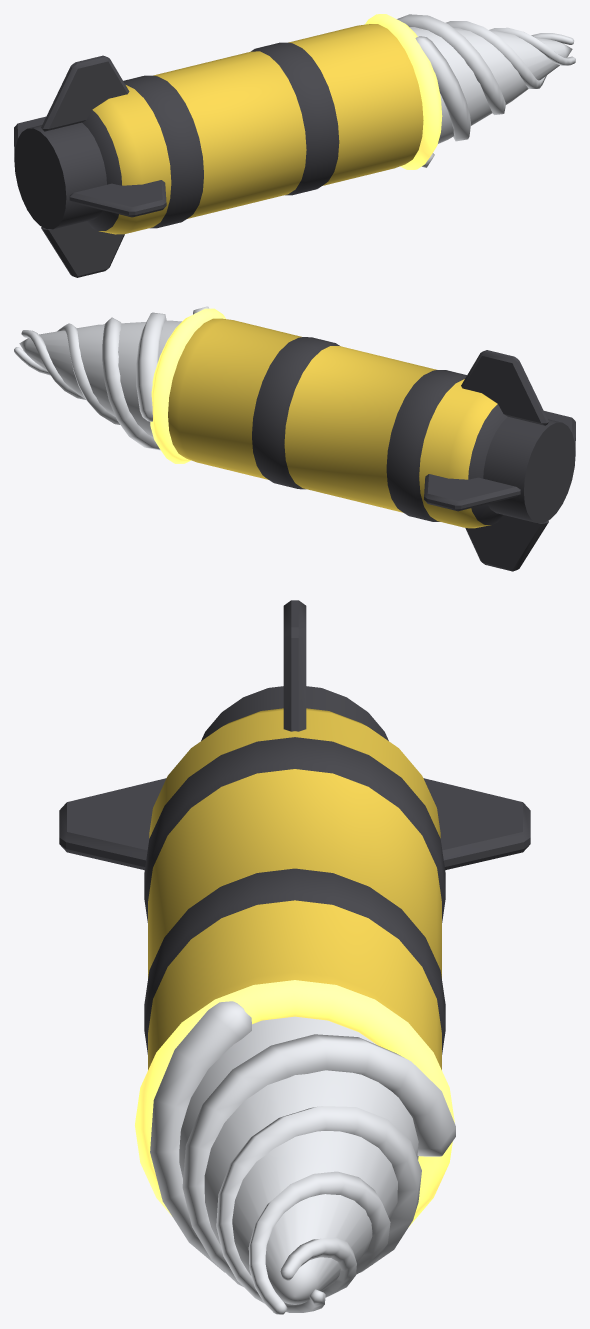
The model's file is digger.glb.
3 views of the same model, one above another, from view 1: azimuth 30°, elevation 25°; view 2: azimuth 150°, elevation 25°; view 3: azimuth 270°, elevation 25° (orthographic). The views are drawn at different scales.
Parts seen in each view (by area): view 1: digger; view 2: digger; view 3: digger.
Boxes of the visible parts, x1,y1,x2,y2 form: digger: [14, 14, 575, 277]; digger: [14, 306, 575, 571]; digger: [59, 600, 530, 1314].
Bounding box in the file's own units: 0.65 × 0.25 × 0.25.
